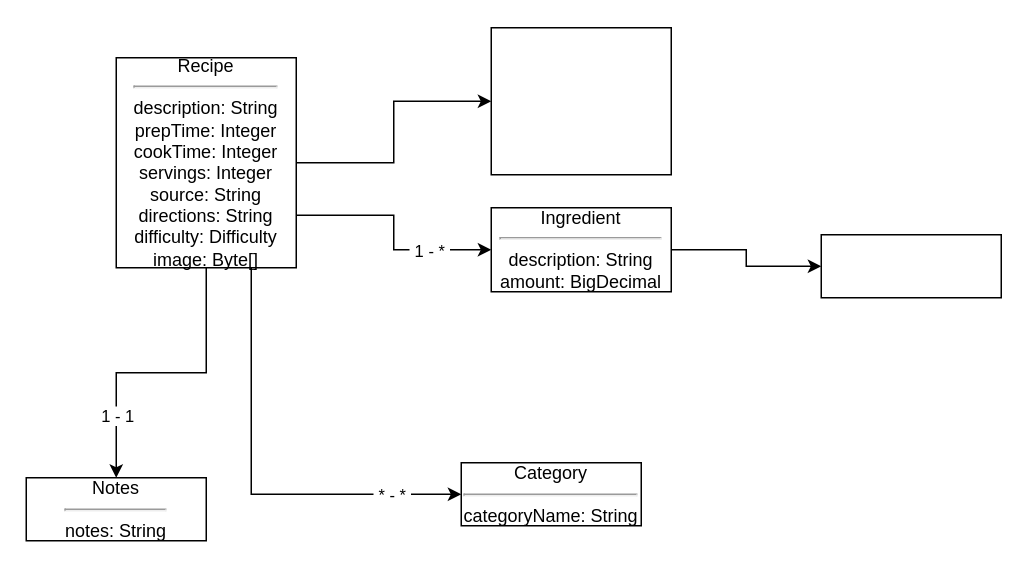
The diagram is 1028 pixels wide and 567 high, and some of its shapes have lost their labels. The shapes that lost their labels are listed below. From the top down, each one's centre as x and y in pixels, then its label:
the point at 580,100: <<ENUM>> Difficulty EASY MODERATE HARD
the point at 910,265: UnitOfMeasure unitOfMeasure: String
